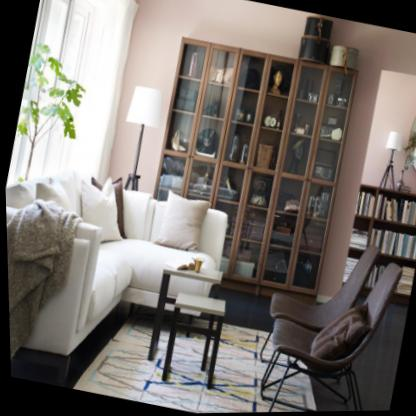Chair: (246, 237, 408, 413)
Sofa: (4, 153, 236, 409)
Table: (156, 290, 228, 390)
